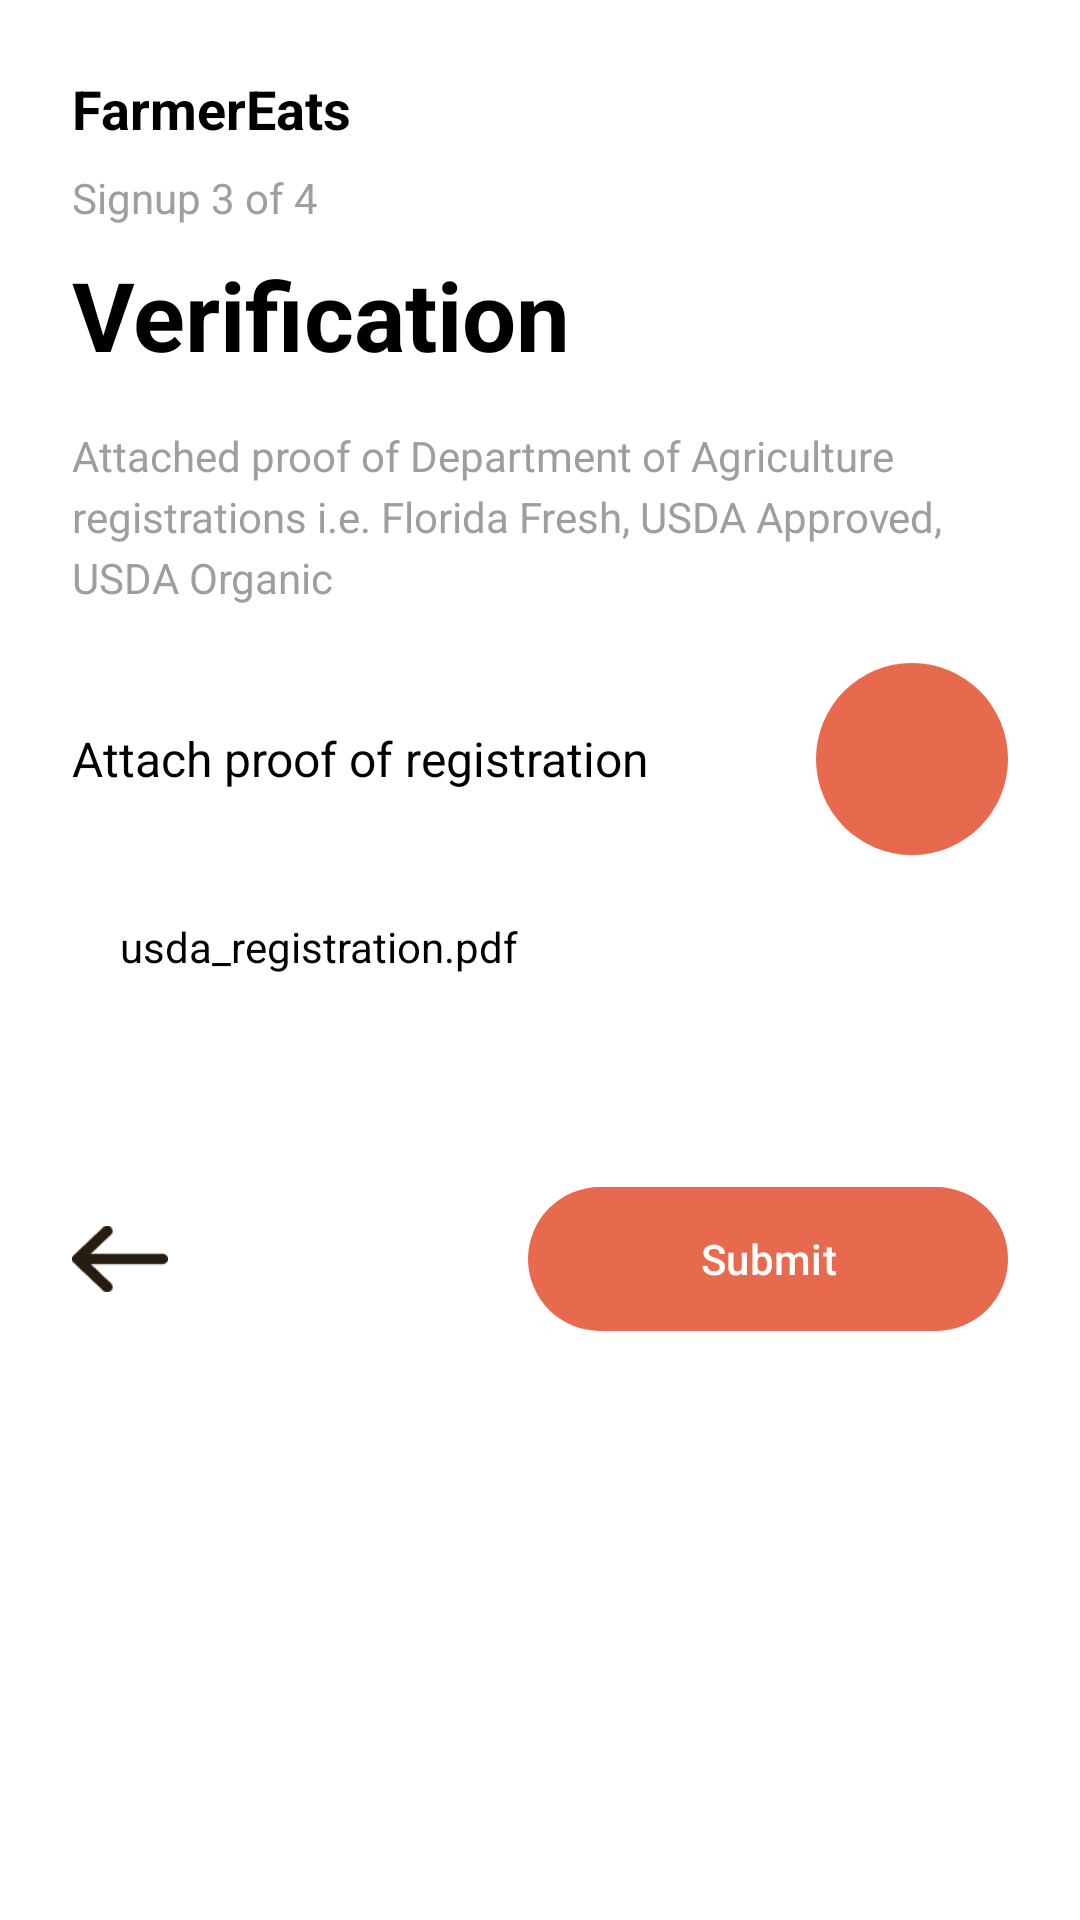

Screen size 1080x1920. Icon name, then its center in pixels as [x,y]:
back: [120,1259]
